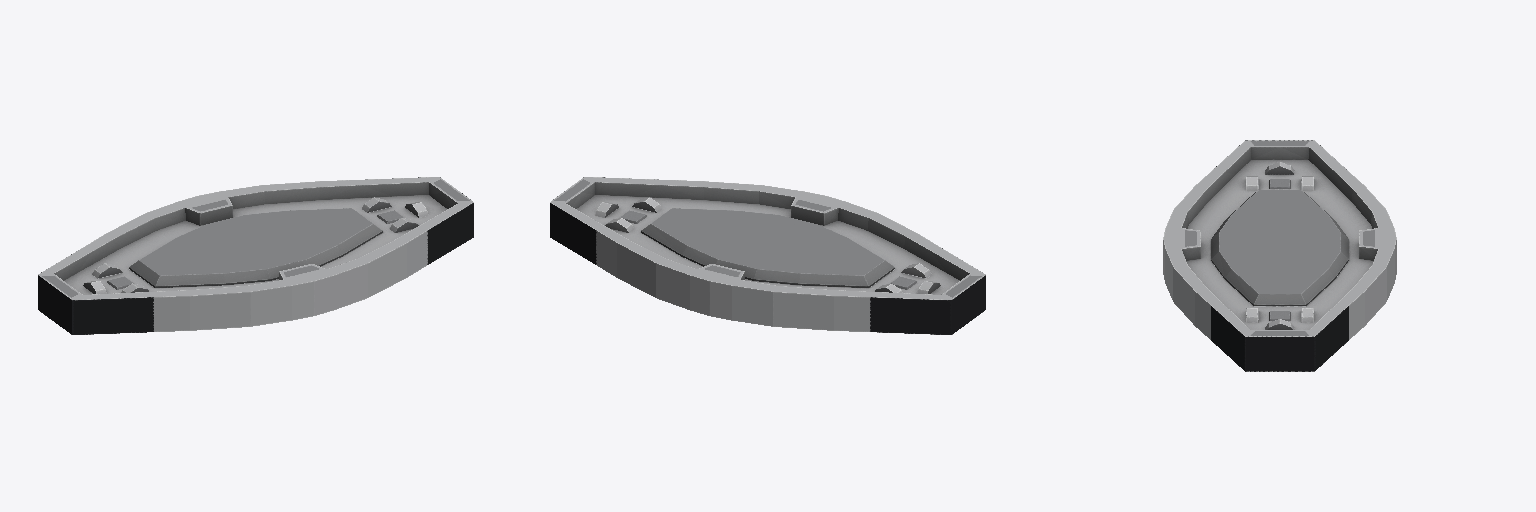
3 views of the same model, side by side, from view 1: azimuth 30°, elevation 25°; view 2: azimuth 150°, elevation 25°; view 3: azimuth 270°, elevation 25° (orthographic).
Visible parts, largest first — view 1: MK2DroneCore_mesh; view 2: MK2DroneCore_mesh; view 3: MK2DroneCore_mesh.
Boxes of the visible parts, box(x1,y1,x2,y2) form: MK2DroneCore_mesh: box(38, 177, 473, 334); MK2DroneCore_mesh: box(550, 177, 985, 334); MK2DroneCore_mesh: box(1163, 140, 1396, 371).
Bounding box in the file's own units: 10.74 × 0.8928 × 5.41.
Materials: 1 (1 with a texture image).